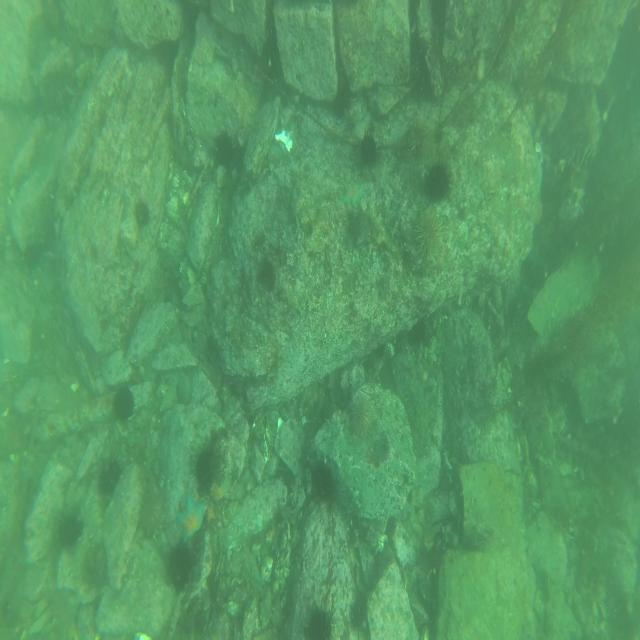echinus: (411, 203, 448, 262), (308, 455, 342, 515), (416, 549, 452, 605), (346, 389, 380, 440), (300, 599, 338, 640), (424, 156, 456, 203), (136, 477, 160, 535), (405, 117, 435, 160), (110, 383, 138, 428), (358, 124, 382, 172), (165, 546, 189, 594), (194, 450, 219, 496), (211, 129, 236, 174), (95, 460, 123, 500), (58, 507, 82, 548), (131, 196, 153, 234), (332, 86, 354, 117), (21, 240, 41, 274)
scallop: (273, 127, 294, 157)
starfish: (177, 489, 208, 539), (342, 175, 364, 213)
